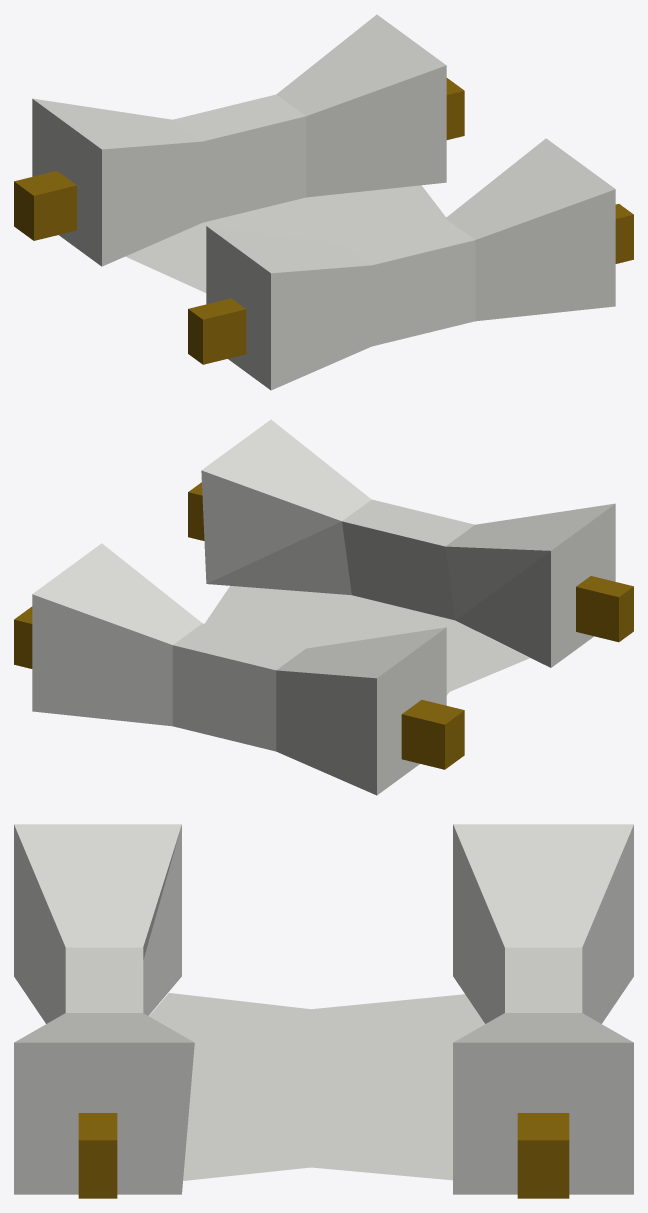
File: inv_unstamped_letter.obj
The picture shows the model from 3 angles, top to bottom: view 1: azimuth 30°, elevation 25°; view 2: azimuth 150°, elevation 25°; view 3: azimuth 270°, elevation 25°; orthographic projection. The views are drawn at different scales.
Size of the model in its own units: 0.3906 by 0.1016 by 0.375.
